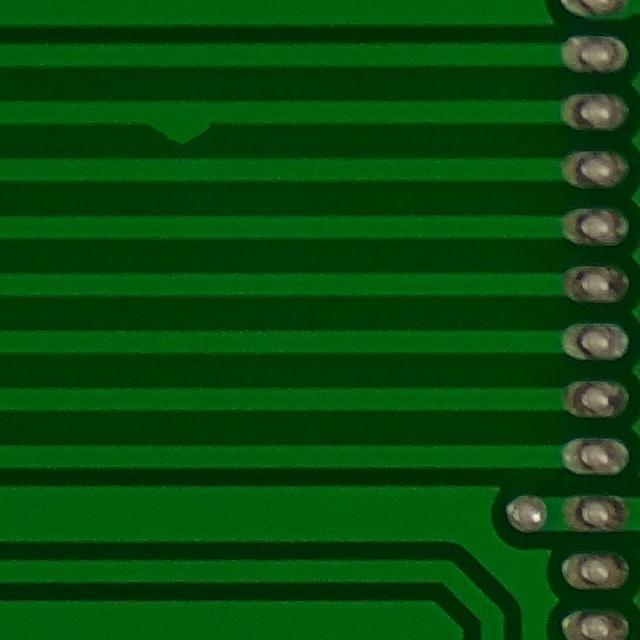spur: (121, 94, 227, 159)
